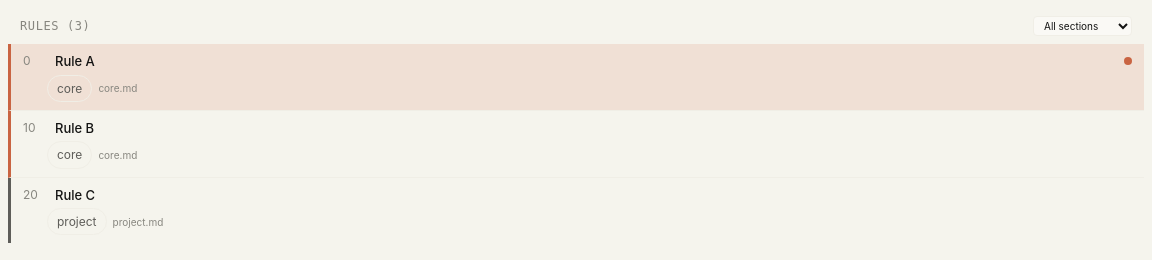
Test: RuleListPanel › filters rules by section
The image size is (1152, 260).
Step 1. Select "project.md (1)" in the dropdown showing "All sections" → (1082, 26), box [1033,16,1132,36]
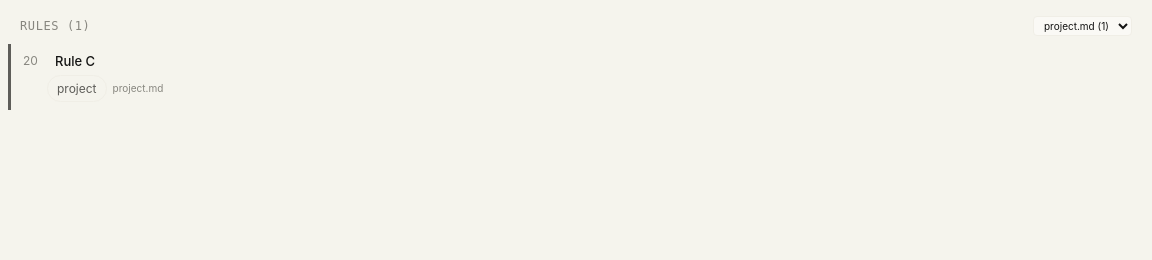
Check: the text "Rules (1)" is shown, box [20,18,90,34]
Check: the text "Rule A" is gone
